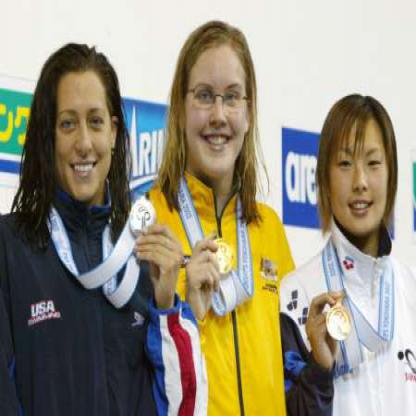face: (46, 48, 116, 204), (185, 25, 251, 181), (327, 98, 394, 237)
